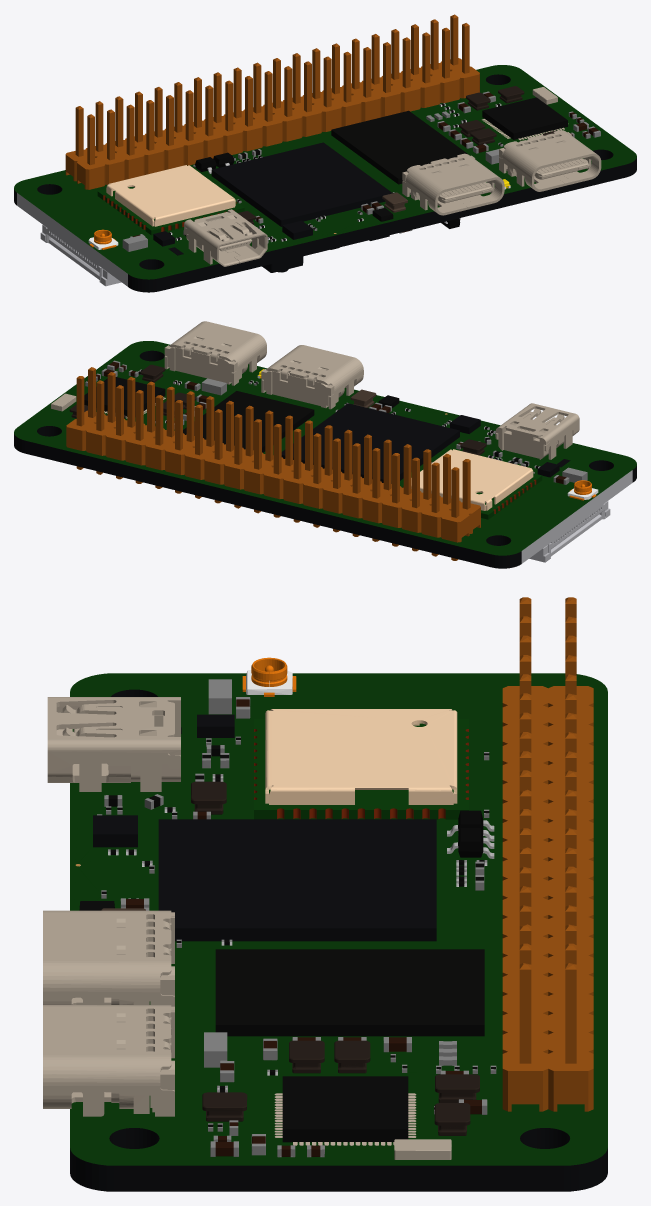
The model's file is radxa-zero-3w.glb.
3 renders of one model, top to bottom at view 1: azimuth 30°, elevation 25°; view 2: azimuth 150°, elevation 25°; view 3: azimuth 270°, elevation 25°, orthographic. The views are drawn at different scales.
Parts seen in each view (by area): view 1: radxa-zero-3w; view 2: radxa-zero-3w; view 3: radxa-zero-3w.
Boxes of the visible parts, <box> form: radxa-zero-3w: <box>14,14,636,292</box>; radxa-zero-3w: <box>14,321,636,568</box>; radxa-zero-3w: <box>43,597,607,1191</box>.
Bounding box in the file's own units: 65.01 × 12.98 × 31.51.
